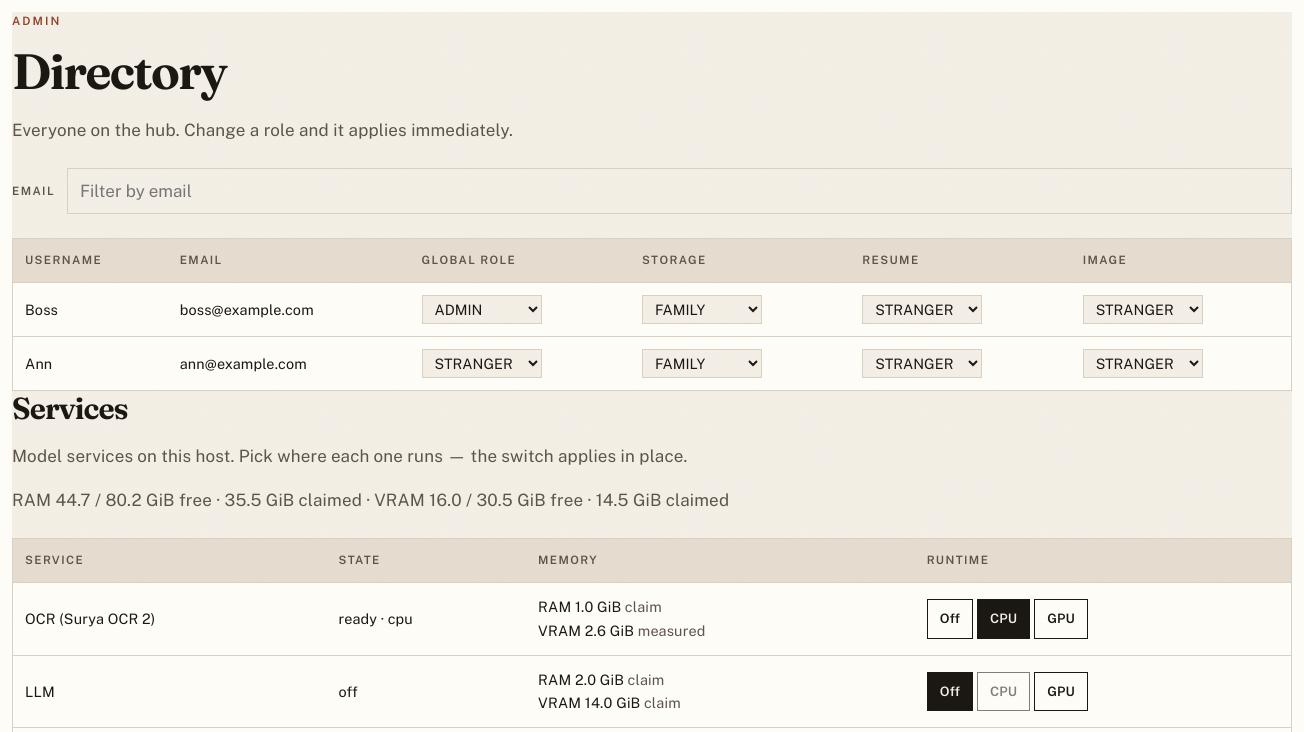
Test case: Admin › filters the table by email substring without another request
Expected: the text "Ann" is shown, [13,337,168,390]
Expected: the text "Boss" is shown, [13,283,168,337]
Type "ann@" into the search field labelled "Email" at x=680, y=191, box [67,168,1292,214]
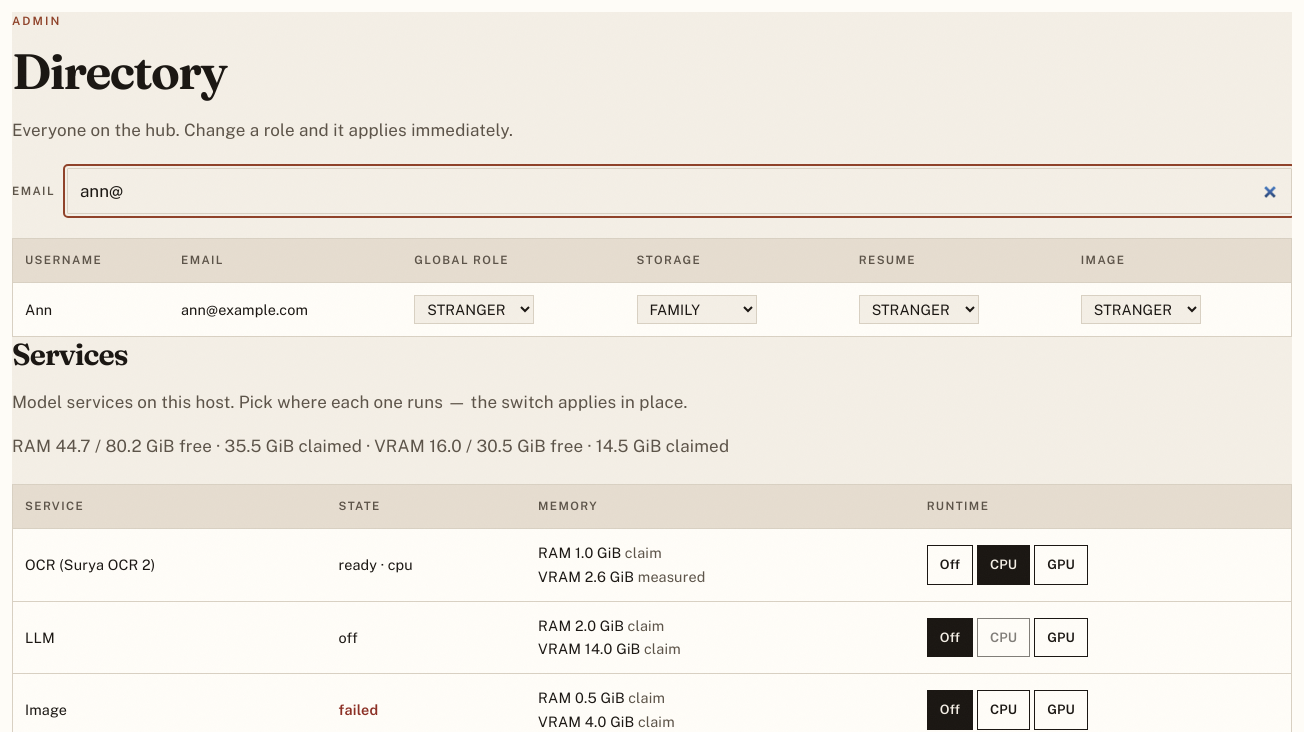
Expected: the text "Ann" is shown, [13,283,169,336]
Expected: the text "Boss" is gone
Clear the search field labelled "Email" at x=680, y=191, box [67,168,1292,214]
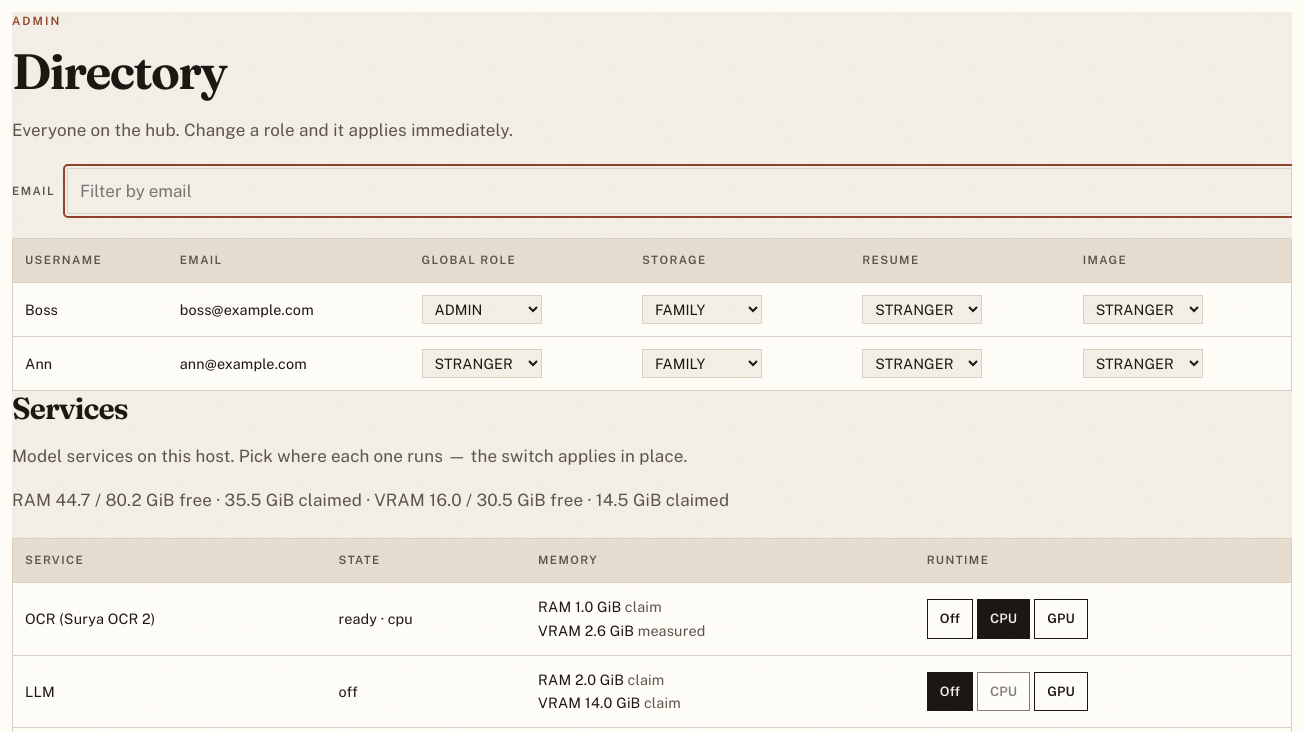
Expected: the text "Ann" is shown, [13,337,168,390]
Expected: the text "Boss" is shown, [13,283,168,337]
